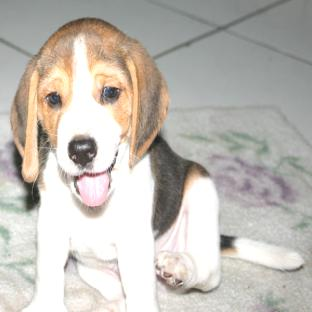Animal: (10, 18, 303, 311)
